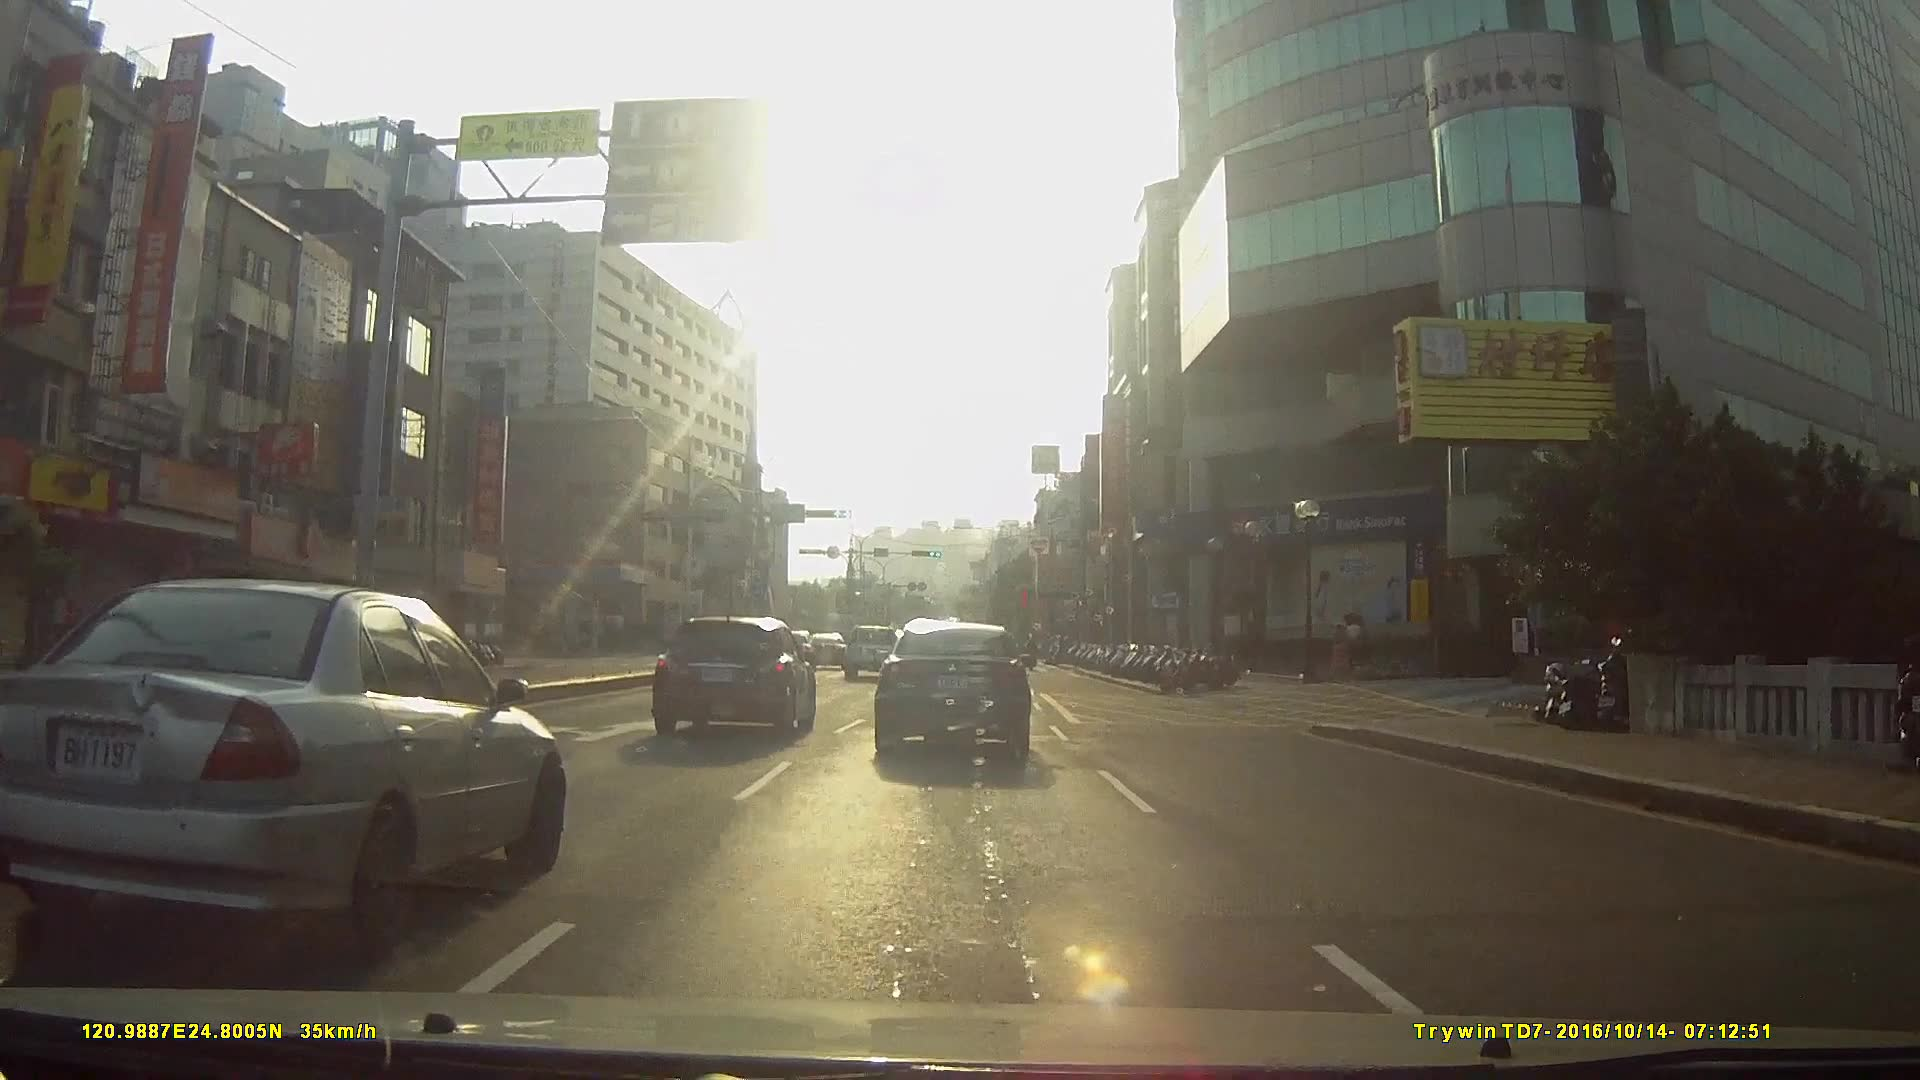vehicle: (0, 571, 560, 957), (873, 612, 1033, 760), (647, 609, 815, 738), (841, 618, 902, 678), (800, 628, 849, 667)
